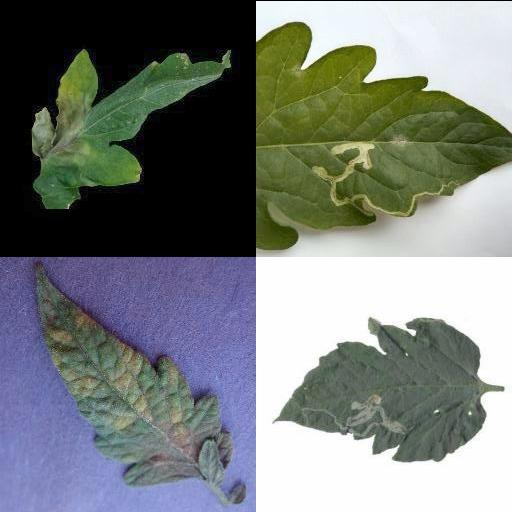Late Blight: (31, 45, 233, 207)
Leaf Miner: (256, 19, 512, 248), (273, 314, 487, 461)
Leaf Mold: (32, 260, 232, 482)
